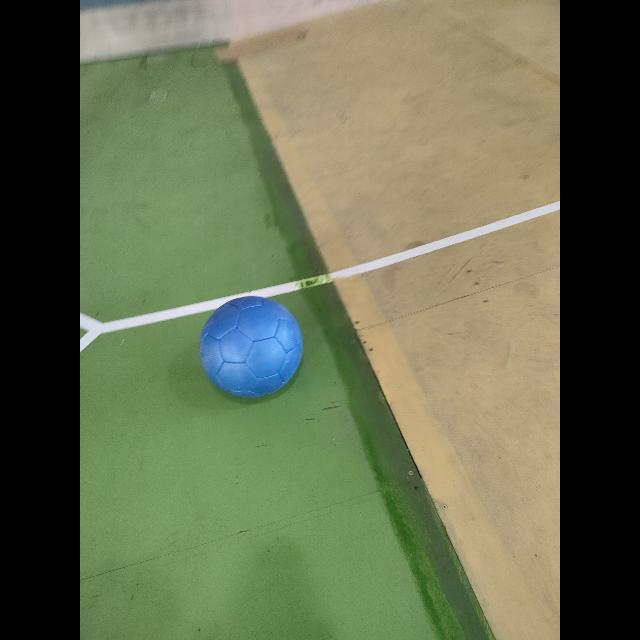B: (200, 296, 302, 396)
